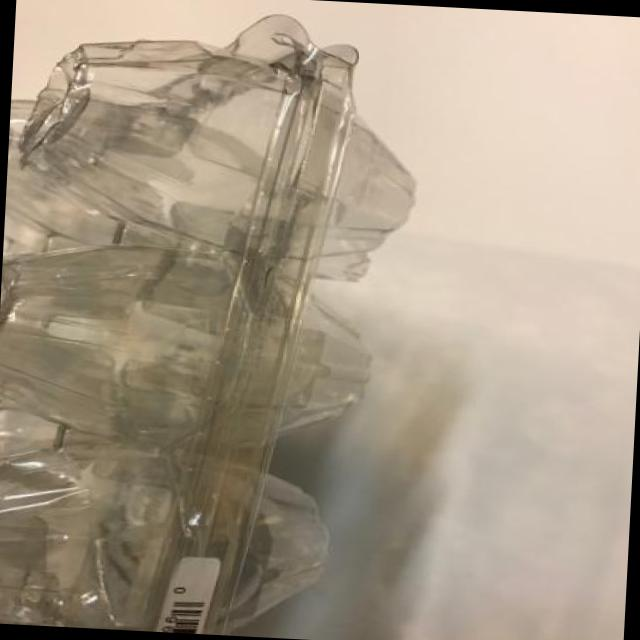Clamshell: (0, 0, 448, 640)
Label: (150, 550, 238, 636)
